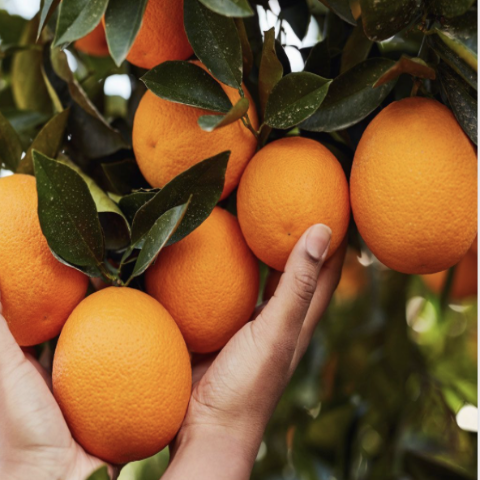orange: (38, 282, 202, 459), (329, 85, 476, 277), (231, 118, 356, 278)
